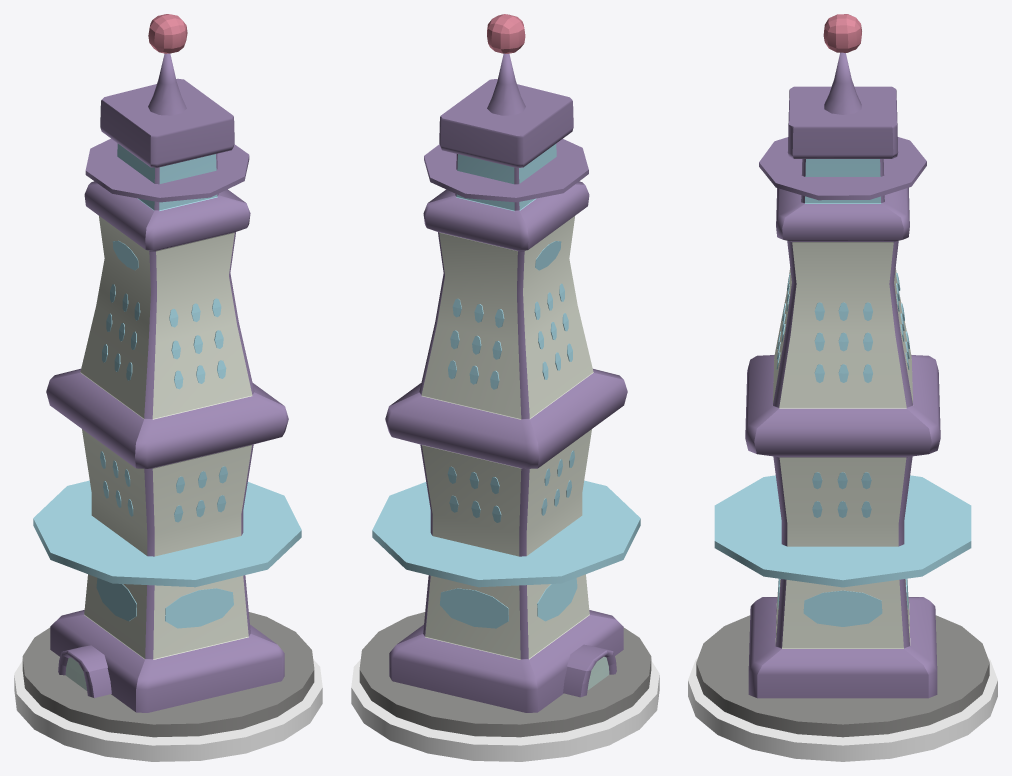
File: Skyskraper_2.fbx
3 renders of one model, left to right at view 1: azimuth 30°, elevation 25°; view 2: azimuth 150°, elevation 25°; view 3: azimuth 270°, elevation 25°, orthographic.
Parts seen in each view (by area): view 1: Skyskraper_2; view 2: Skyskraper_2; view 3: Skyskraper_2.
Part boxes in pixels (x1,y1,x2,y2): Skyskraper_2: (14, 14, 322, 761); Skyskraper_2: (351, 14, 659, 761); Skyskraper_2: (688, 14, 997, 761).
Size of the model in its own units: 1353 by 1353 by 3275.
